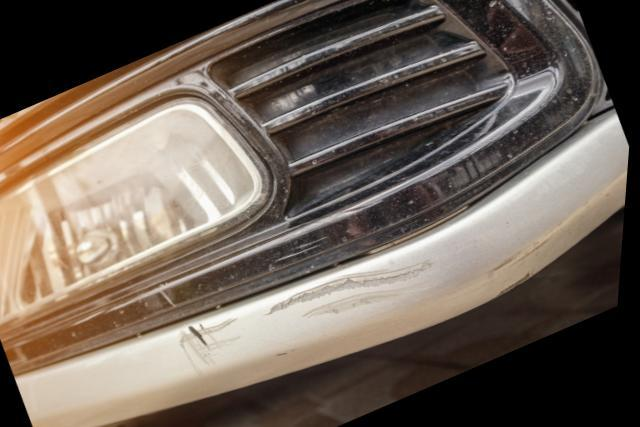scratch: (269, 256, 443, 321), (259, 201, 385, 269), (486, 232, 555, 298), (180, 315, 252, 372)
